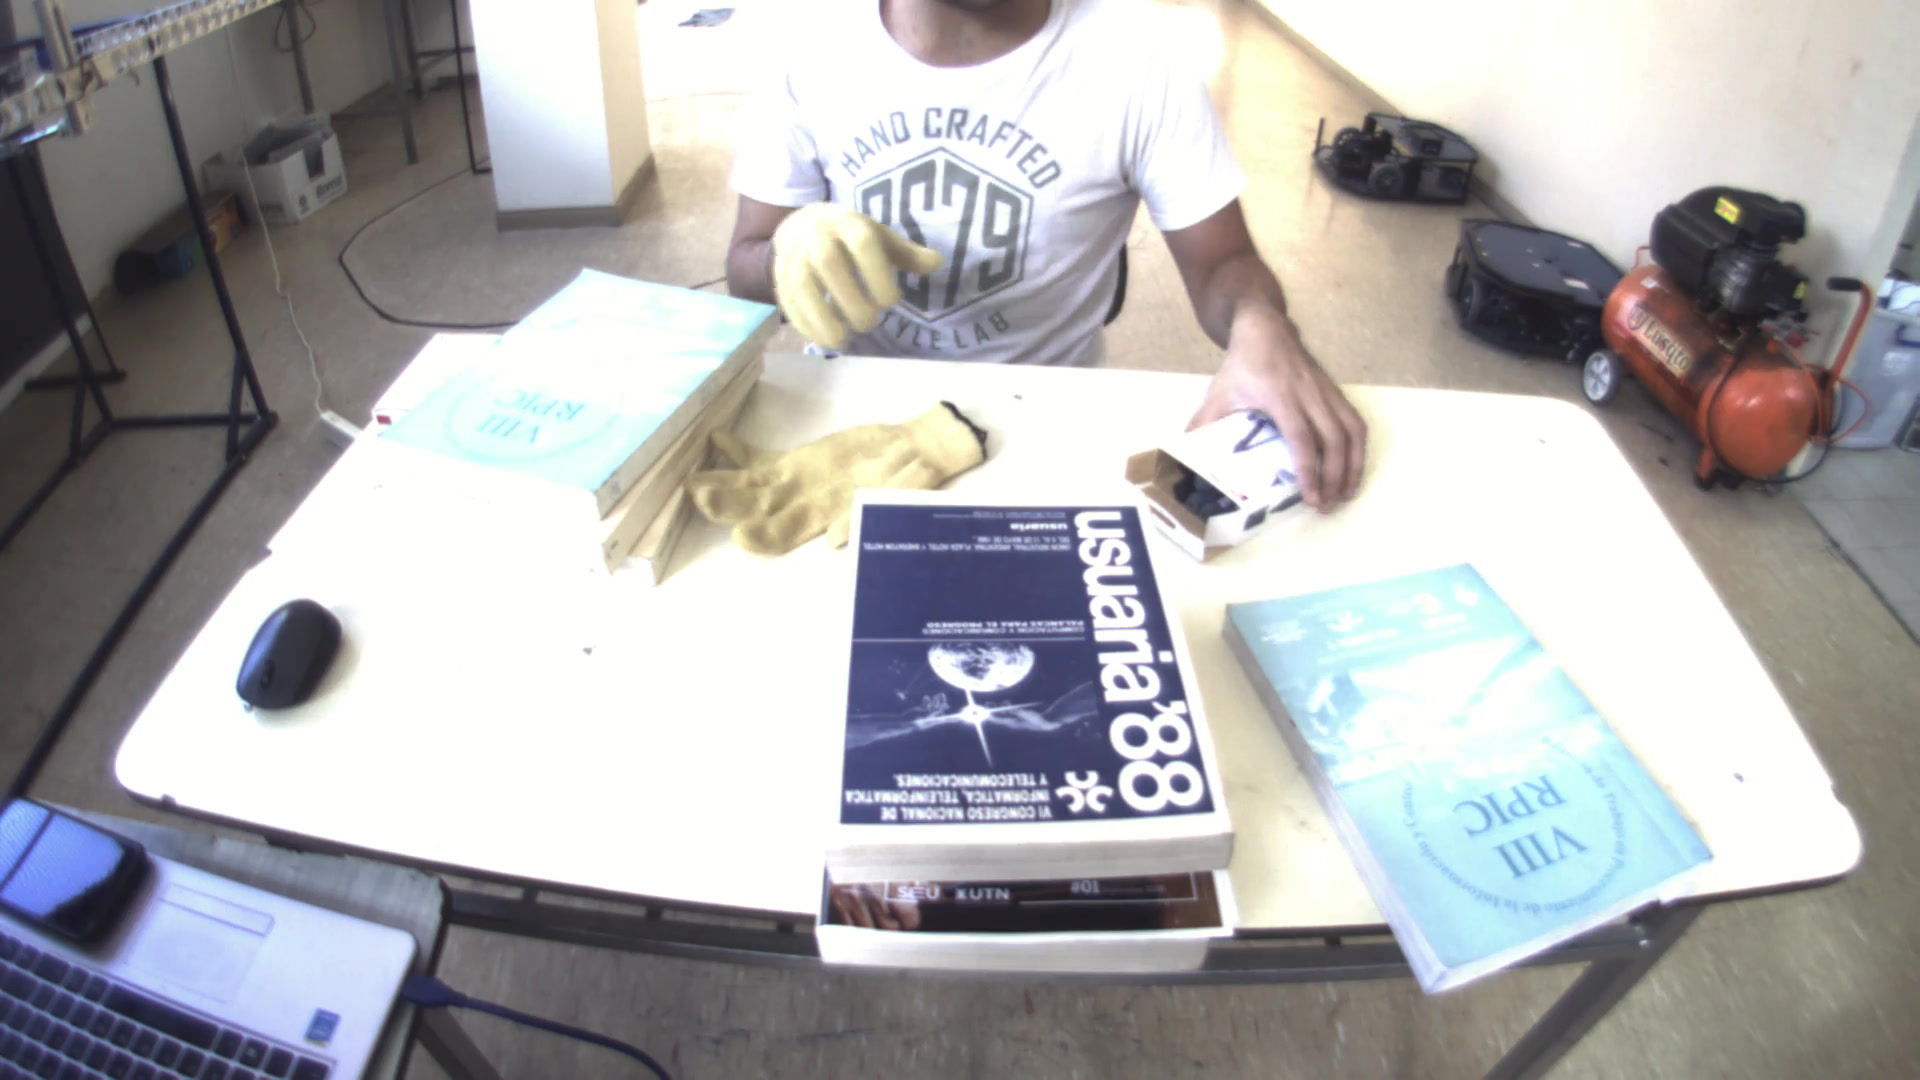hand: (1193, 310, 1389, 505), (762, 189, 934, 347)
